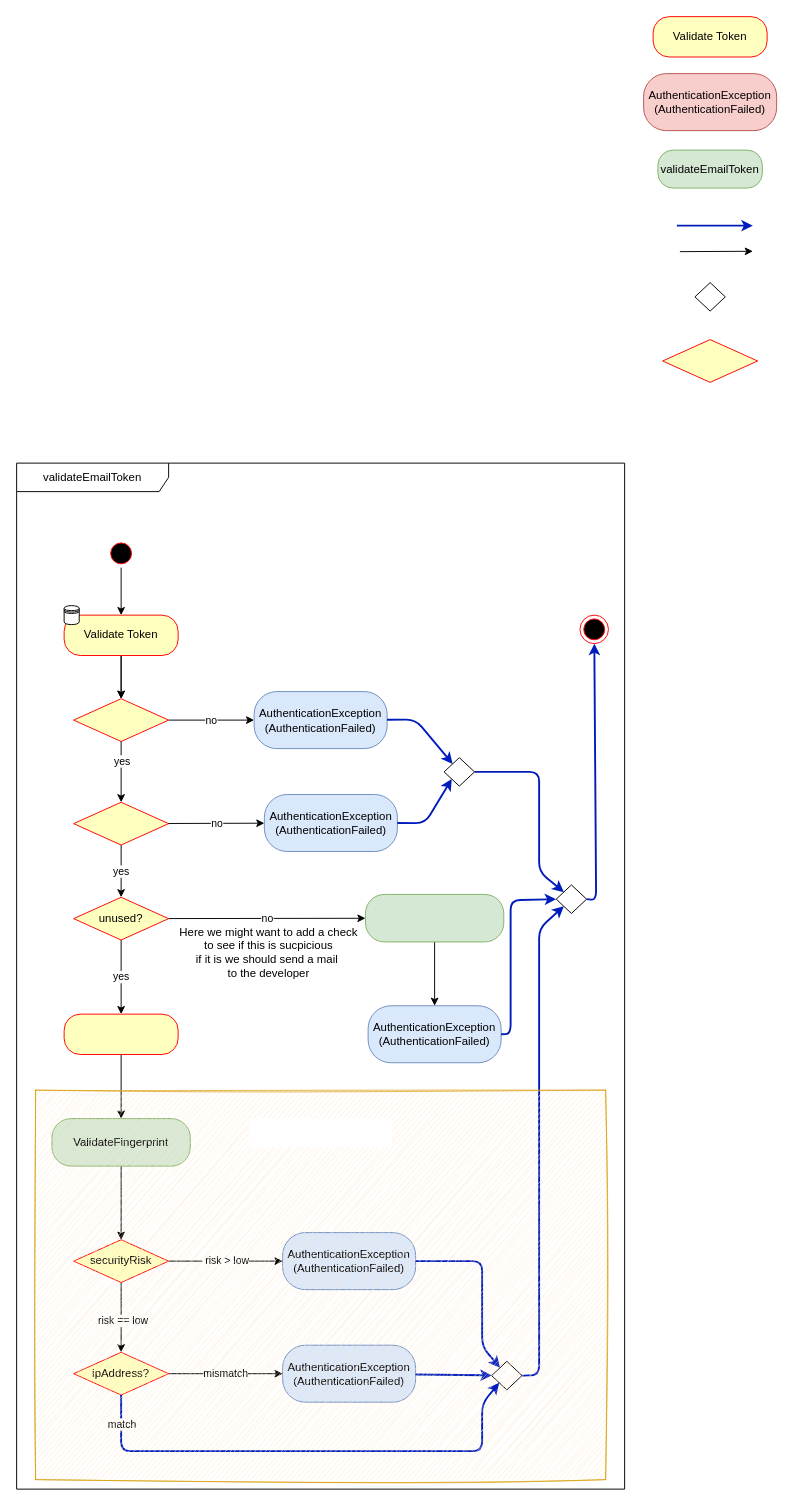
The diagram is 793 pixels wide and 1506 high, and some of its shapes have lost their labels. Each missing label, with the centre of its shape:
EOL valid?: the point at 121,823
existing?: the point at 121,719
Is this realy neccessary?: the point at 320,1132
LogSecurityAuditEntry: the point at 434,917
mark Token used: the point at 120,1033
valid?: the point at 710,360
Verify2FAToken: the point at 120,553
